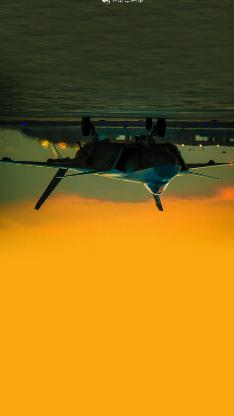F4: (0, 117, 233, 212)
